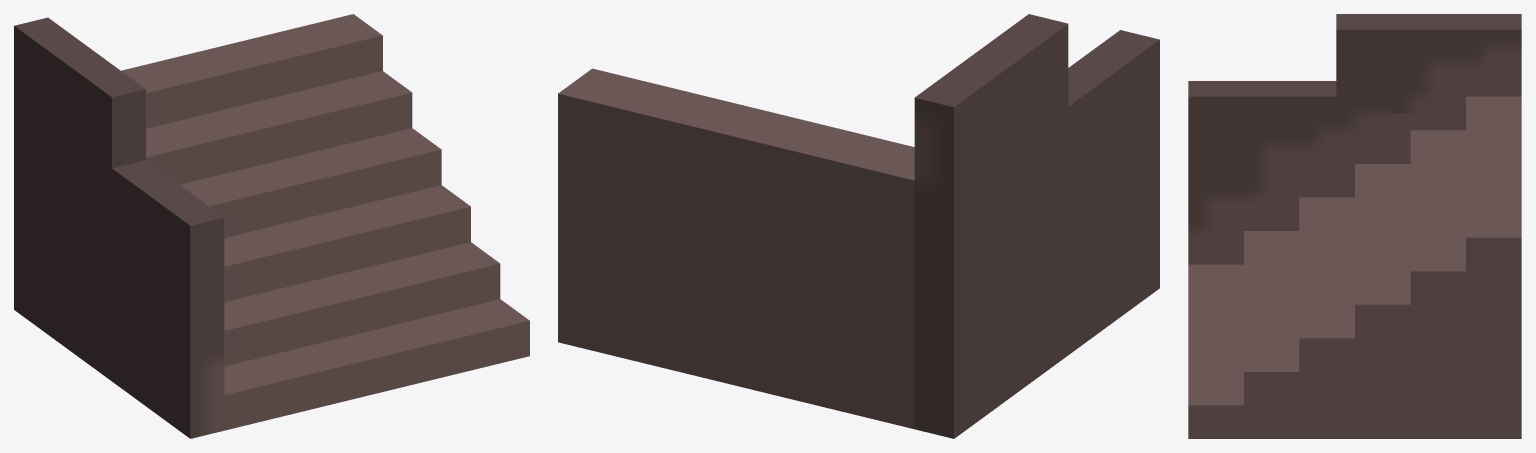
File: Stairs_Side-1.fbx
The picture shows the model from 3 angles, left to right: view 1: azimuth 30°, elevation 25°; view 2: azimuth 150°, elevation 25°; view 3: azimuth 270°, elevation 25°; orthographic projection. The views are drawn at different scales.
Parts seen in each view (by area): view 1: Stairs_Side_1; view 2: Stairs_Side_1; view 3: Stairs_Side_1.
Part boxes in pixels (x1,y1,x2,y2): Stairs_Side_1: (14,14,529,438); Stairs_Side_1: (558,14,1159,438); Stairs_Side_1: (1188,14,1521,438).
Bounding box in the file's own units: 200 × 160 × 180.
